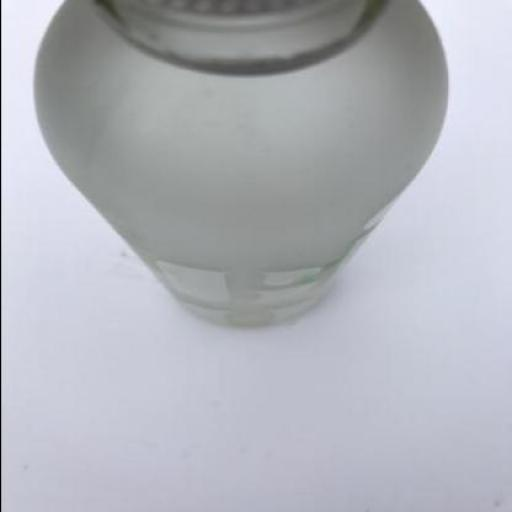glass: (32, 1, 443, 323)
